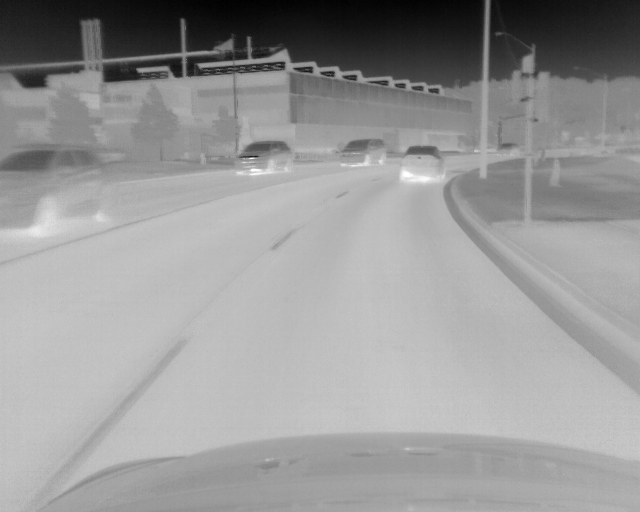car: (1, 144, 110, 238), (234, 139, 296, 179), (400, 145, 445, 187), (339, 136, 386, 168), (495, 143, 519, 156)
